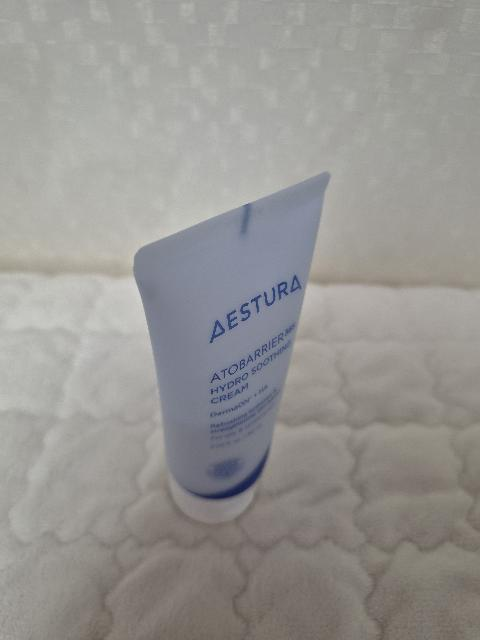handcream: (133, 171, 331, 523)
